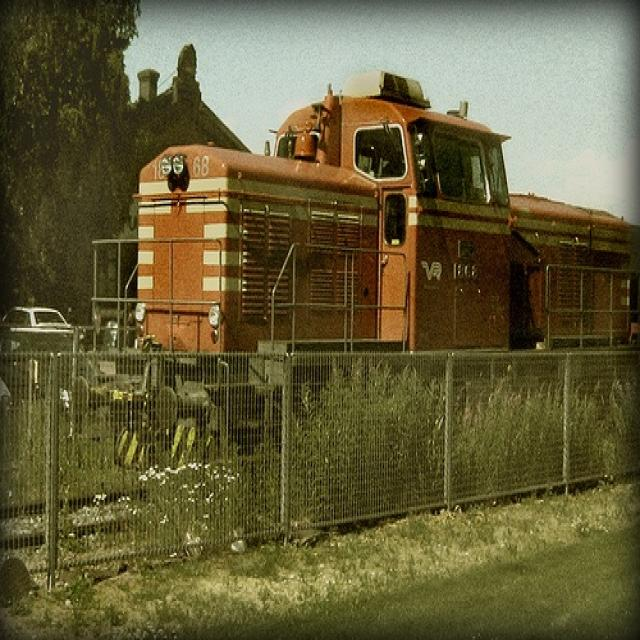car: (1, 302, 74, 338)
train: (92, 70, 634, 473)
